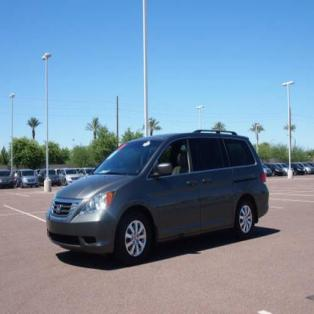Auto: (45, 131, 269, 263)
